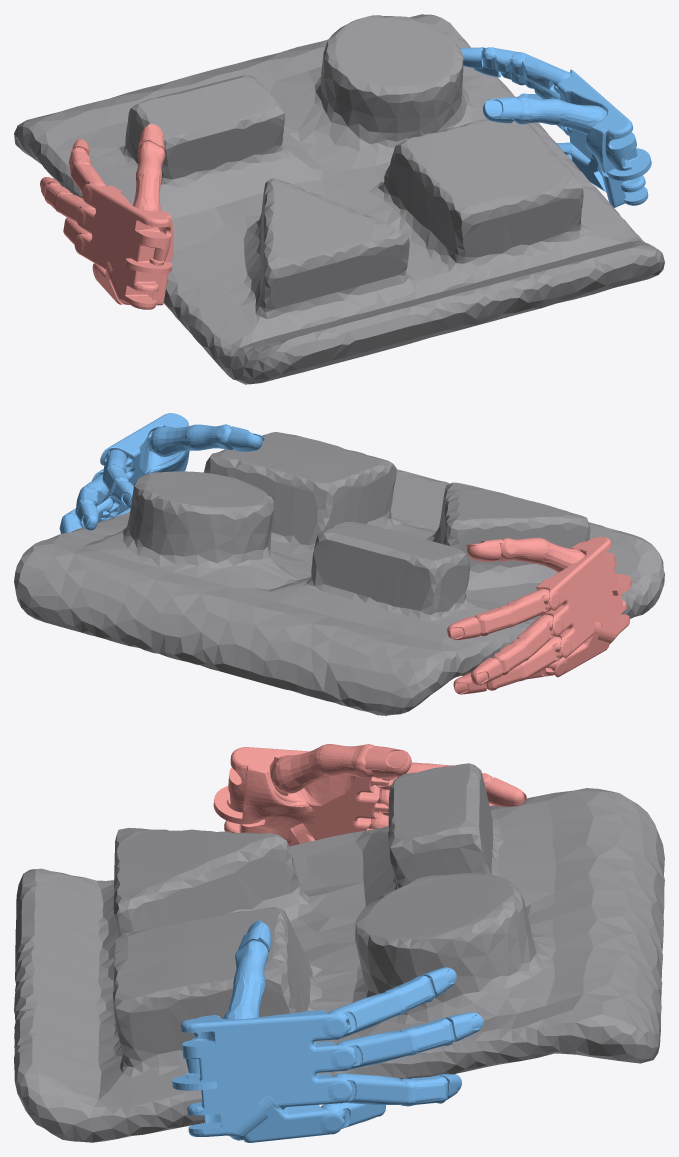
File: mujoco_FRACTION_FUN_n4h4qte23QR_scale030_pair02708_grasp.glb
The picture shows the model from 3 angles, top to bottom: view 1: azimuth 30°, elevation 25°; view 2: azimuth 150°, elevation 25°; view 3: azimuth 270°, elevation 25°; orthographic projection. The views are drawn at different scales.
Visible parts, largest first — view 1: object_mesh, left_shadow_hand, right_shadow_hand; view 2: object_mesh, left_shadow_hand, right_shadow_hand; view 3: object_mesh, right_shadow_hand, left_shadow_hand.
Part boxes in pixels (box(x1,y1,x2,y2)): object_mesh: box(14, 14, 664, 384); left_shadow_hand: box(40, 123, 173, 309); right_shadow_hand: box(460, 47, 651, 207); object_mesh: box(14, 432, 664, 715); left_shadow_hand: box(447, 537, 631, 694); right_shadow_hand: box(59, 413, 264, 533); object_mesh: box(14, 763, 664, 1142); right_shadow_hand: box(172, 920, 483, 1142); left_shadow_hand: box(213, 744, 526, 846).
Size of the model in its own units: 0.4845 by 0.1517 by 0.4418.
